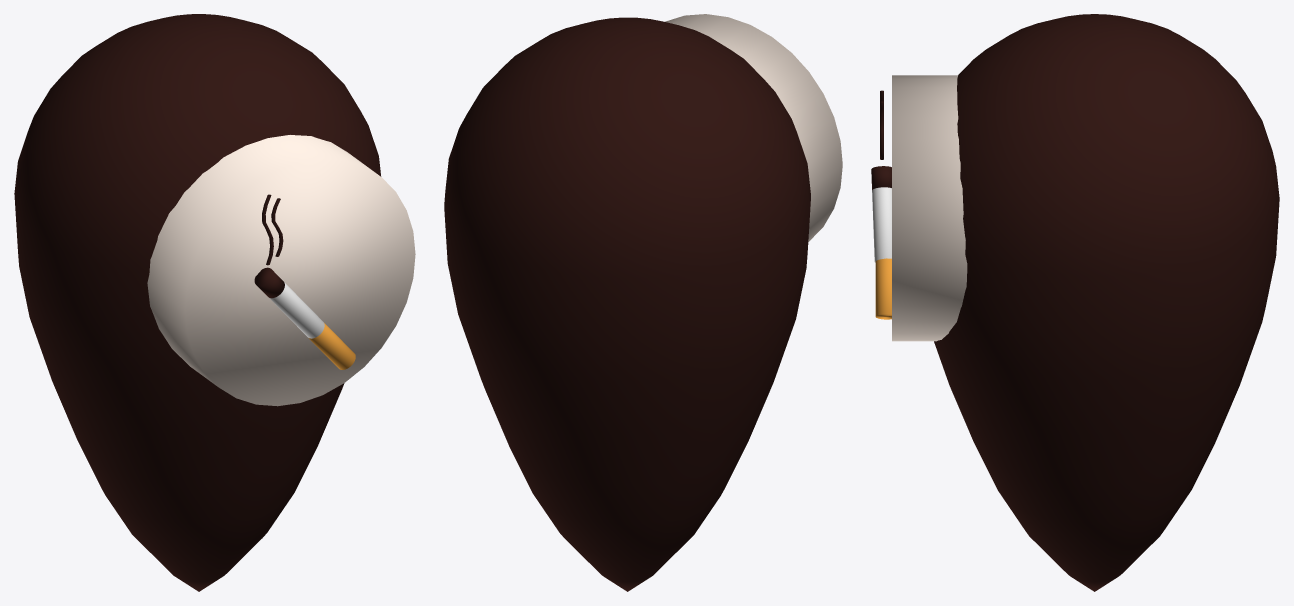
The model's file is smokerPin.glb.
3 views of the same model, side by side, from view 1: azimuth 30°, elevation 25°; view 2: azimuth 150°, elevation 25°; view 3: azimuth 270°, elevation 25° (orthographic).
Parts seen in each view (by area): view 1: pin.005, Cylinder.011, Cylinder.006, Cylinder.007, Cylinder.010; view 2: pin.005, Cylinder.011; view 3: pin.005, Cylinder.011, Cylinder.006, Cylinder.007.
Boxes of the visible parts, x1,y1,x2,y2 form: pin.005: (14,14,381,591); Cylinder.011: (147,135,415,406); Cylinder.006: (269,282,324,338); Cylinder.007: (309,323,355,369); Cylinder.010: (254,267,284,298); pin.005: (444,17,810,591); Cylinder.011: (665,14,842,241); pin.005: (934,14,1279,591); Cylinder.011: (892,75,967,341); Cylinder.006: (872,187,891,262); Cylinder.007: (875,258,891,319).
Bounding box in the file's own units: 0.2435 × 0.4072 × 0.2687.
